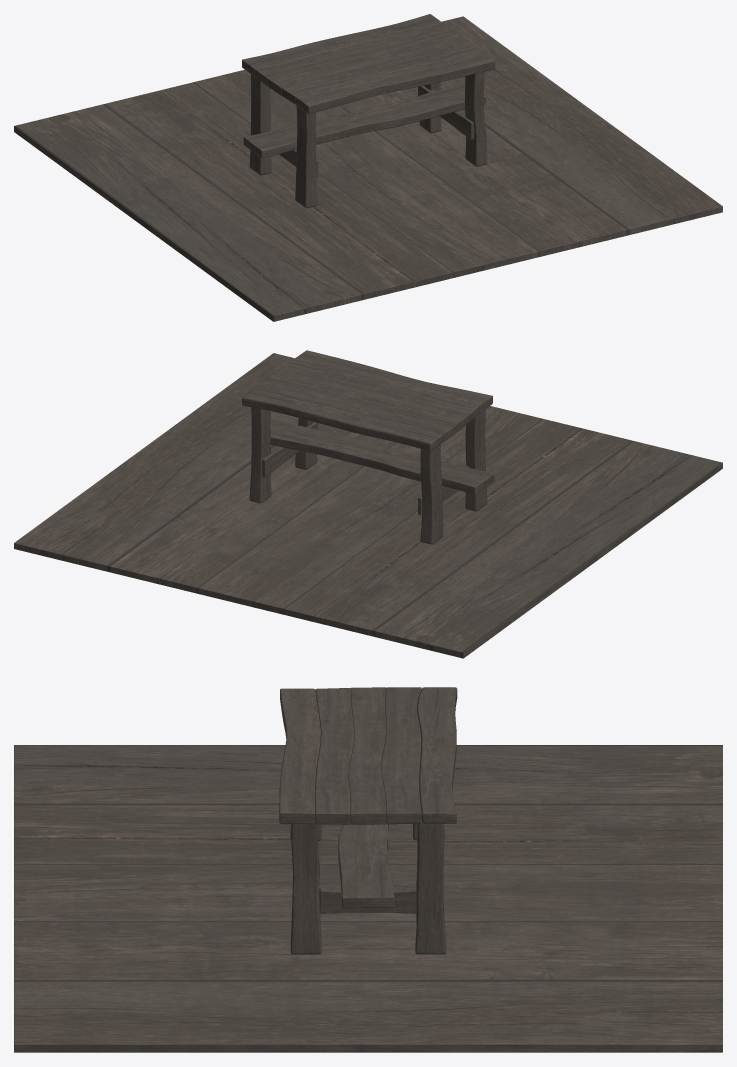
The model's file is hut.fbx.
The picture shows the model from 3 angles, top to bottom: view 1: azimuth 30°, elevation 25°; view 2: azimuth 150°, elevation 25°; view 3: azimuth 270°, elevation 25°; orthographic projection. The views are drawn at different scales.
Visible parts, largest first — view 1: wooden_floor, table; view 2: wooden_floor, table; view 3: wooden_floor, table.
Part boxes in pixels (x1,y1,x2,y2): wooden_floor: [14, 16, 722, 321]; table: [242, 14, 495, 208]; wooden_floor: [14, 353, 722, 658]; table: [242, 350, 494, 544]; wooden_floor: [14, 745, 722, 1052]; table: [279, 687, 457, 954].
Bounding box in the file's own units: 400 × 95.3 × 400.
